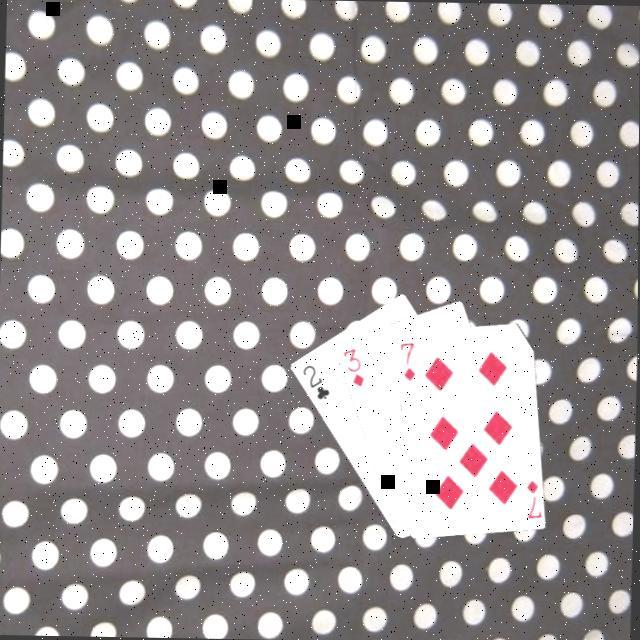2C: (296, 363, 331, 405)
3D: (336, 346, 365, 391)
7D: (520, 478, 541, 523), (396, 340, 416, 386)
